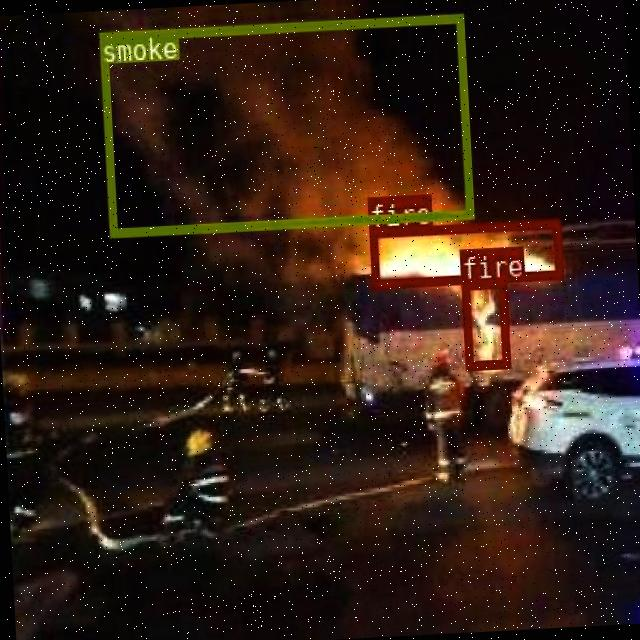fire: (368, 218, 562, 286), (461, 278, 508, 369)
smoke: (98, 12, 472, 237)
